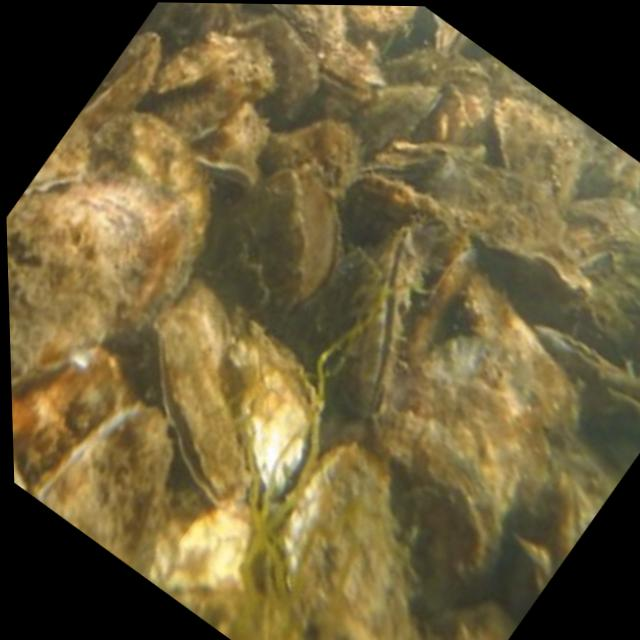Oyster-Closed: (34, 400, 173, 581), (153, 284, 252, 506), (344, 230, 420, 415), (235, 16, 321, 128), (405, 247, 478, 370), (535, 325, 640, 402), (346, 86, 444, 164), (295, 176, 346, 308), (22, 110, 91, 195), (198, 108, 268, 190), (153, 3, 234, 65), (267, 4, 348, 50), (360, 148, 441, 186), (554, 484, 589, 569)
Oyster-Indeterminate: (6, 111, 211, 385), (285, 446, 414, 640), (359, 411, 495, 593), (412, 330, 526, 526), (11, 350, 120, 495), (211, 174, 305, 331), (146, 35, 275, 139), (343, 176, 458, 250), (80, 34, 164, 132), (496, 99, 559, 183), (455, 599, 518, 640), (341, 5, 423, 36)
Oyster-Open: (317, 66, 371, 106)
